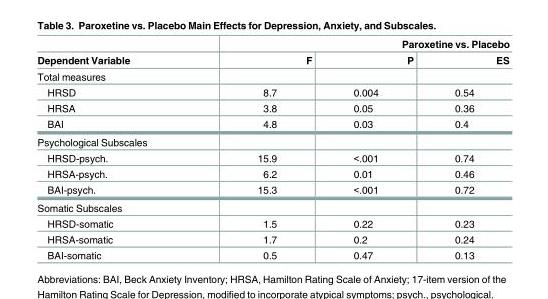table: (36, 37, 508, 260)
table column: (36, 37, 201, 260), (201, 37, 331, 260), (331, 37, 433, 260), (433, 37, 508, 260)
table column header: (36, 37, 508, 67)
table projected row header: (36, 67, 508, 84), (36, 132, 508, 149), (36, 198, 508, 215)
table row: (36, 67, 508, 84), (36, 115, 508, 132), (36, 132, 508, 149), (36, 181, 508, 198), (36, 198, 508, 215), (36, 51, 508, 67), (36, 99, 508, 115), (36, 149, 508, 165), (36, 165, 508, 181), (36, 215, 508, 231), (36, 84, 508, 99), (36, 231, 508, 246), (36, 37, 508, 51), (36, 246, 508, 260)
table spanning cell: (36, 37, 201, 67), (201, 37, 508, 51)
